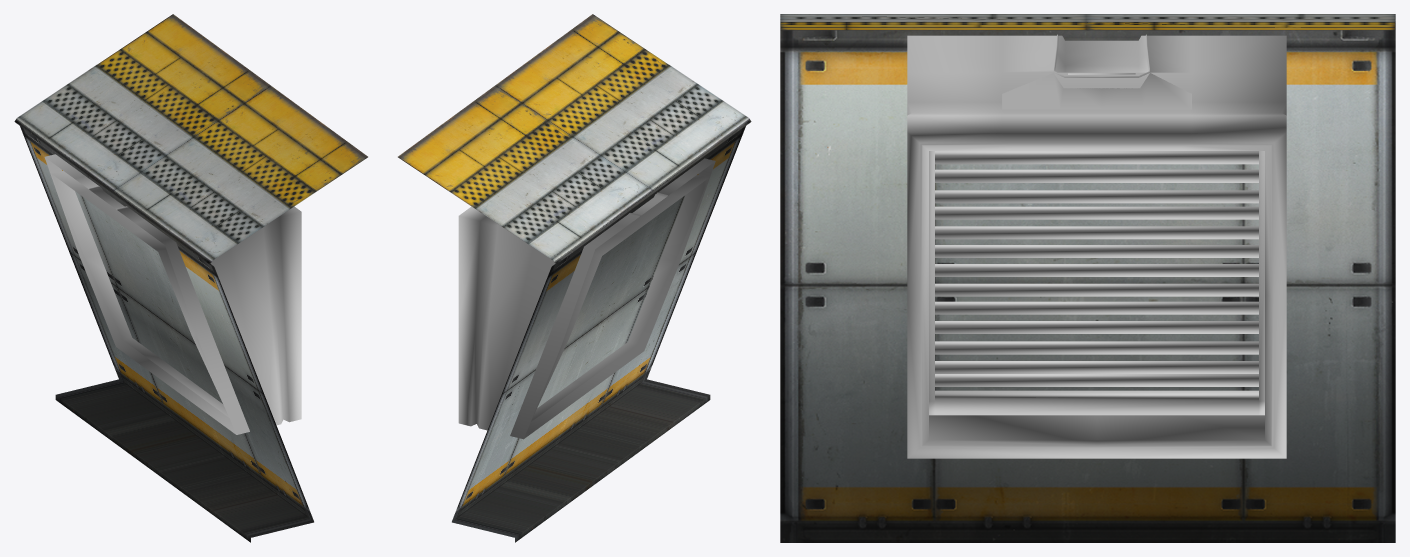
The model's file is panel05.fbx.
The picture shows the model from 3 angles, left to right: view 1: azimuth 30°, elevation 25°; view 2: azimuth 150°, elevation 25°; view 3: azimuth 270°, elevation 25°; orthographic projection. The views are drawn at different scales.
Parts seen in each view (by area): view 1: polySurface29, vent_5:polySurface2; view 2: polySurface29, vent_5:polySurface2; view 3: polySurface29, vent_5:polySurface2, vent_5:polySurface12, vent_5:polySurface27, vent_5:polySurface28, vent_5:polySurface29, vent_5:polySurface30, vent_5:polySurface31, vent_5:polySurface34, vent_5:polySurface35, vent_5:polySurface37, vent_5:polySurface32 (+4 smaller).
Part boxes in pixels (box(x1,y1,x2,y2)): polySurface29: box(14, 14, 367, 542); vent_5:polySurface2: box(44, 154, 301, 434); polySurface29: box(398, 14, 751, 542); vent_5:polySurface2: box(458, 158, 715, 439); polySurface29: box(780, 14, 1395, 542); vent_5:polySurface2: box(907, 34, 1286, 458); vent_5:polySurface12: box(929, 151, 1264, 415); vent_5:polySurface27: box(935, 151, 1258, 164); vent_5:polySurface28: box(935, 169, 1258, 182); vent_5:polySurface29: box(935, 190, 1258, 203); vent_5:polySurface30: box(935, 206, 1258, 219); vent_5:polySurface31: box(935, 226, 1258, 239); vent_5:polySurface34: box(935, 283, 1258, 296); vent_5:polySurface35: box(935, 301, 1258, 314); vent_5:polySurface37: box(935, 341, 1258, 354); vent_5:polySurface32: box(935, 245, 1258, 257).
Size of the model in its own units: 0.853 by 1.78 by 1.77.
